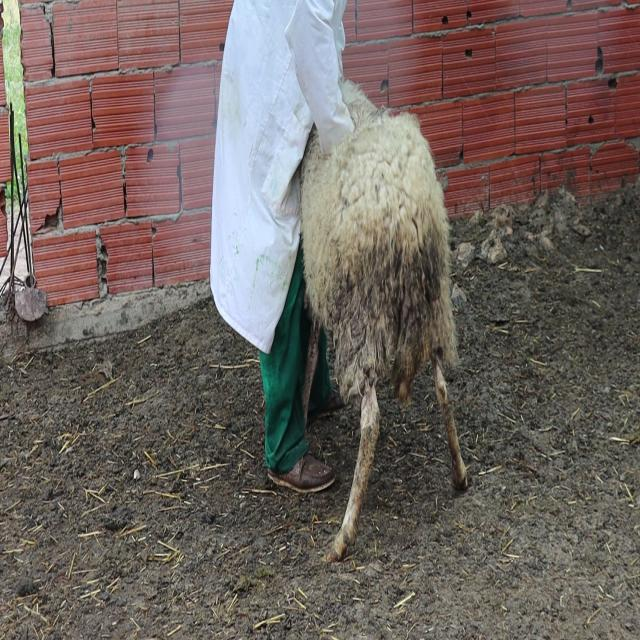Score_2: (300, 79, 467, 561)
